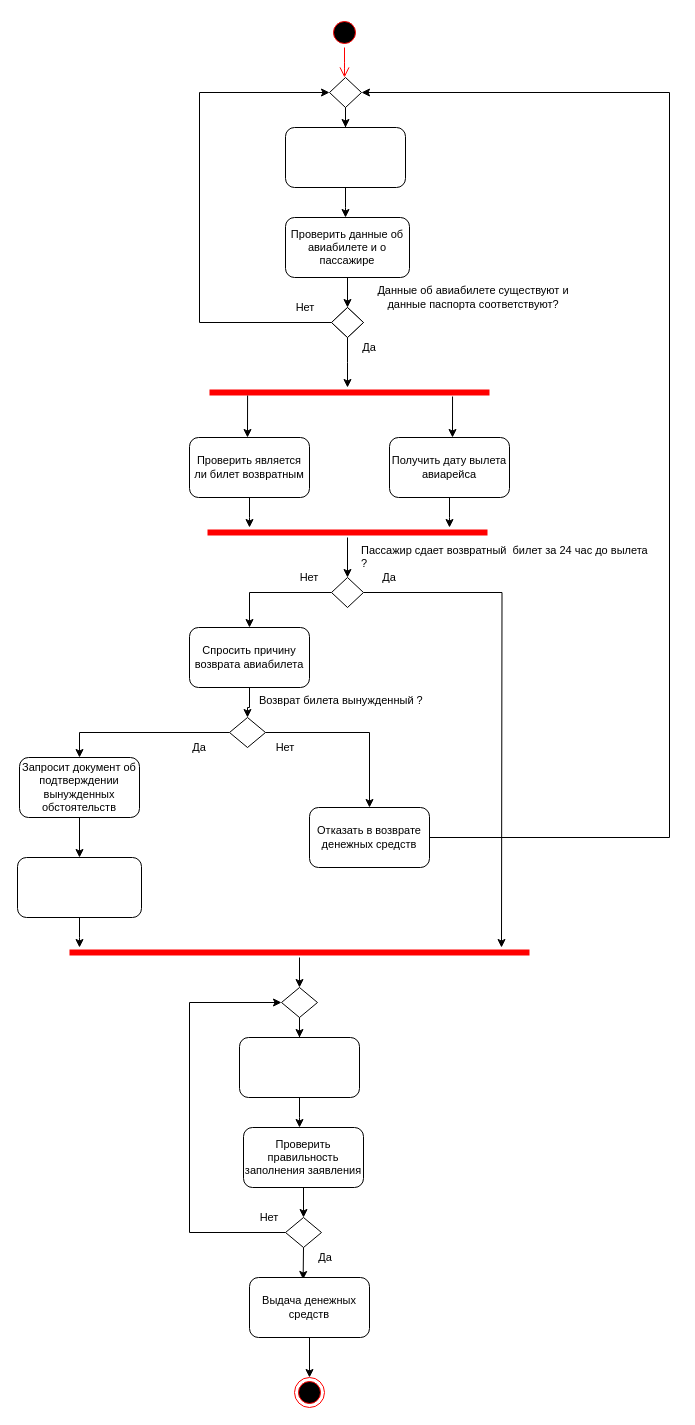
The diagram is 695 pixels wide and 1425 high, and some of its shapes have lost their labels. Each missing label, with the centre of its shape:
Выдать заявление на возврат денежных средств: (x=299, y=1067)
Запросить у пассажира авиабилет и паспорт: (x=345, y=157)
Проверить достоверность документа: (x=79, y=887)
